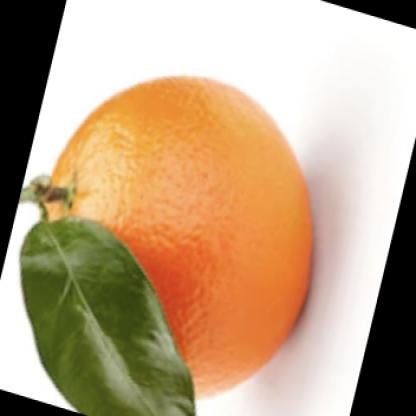orange: (33, 72, 324, 412)
